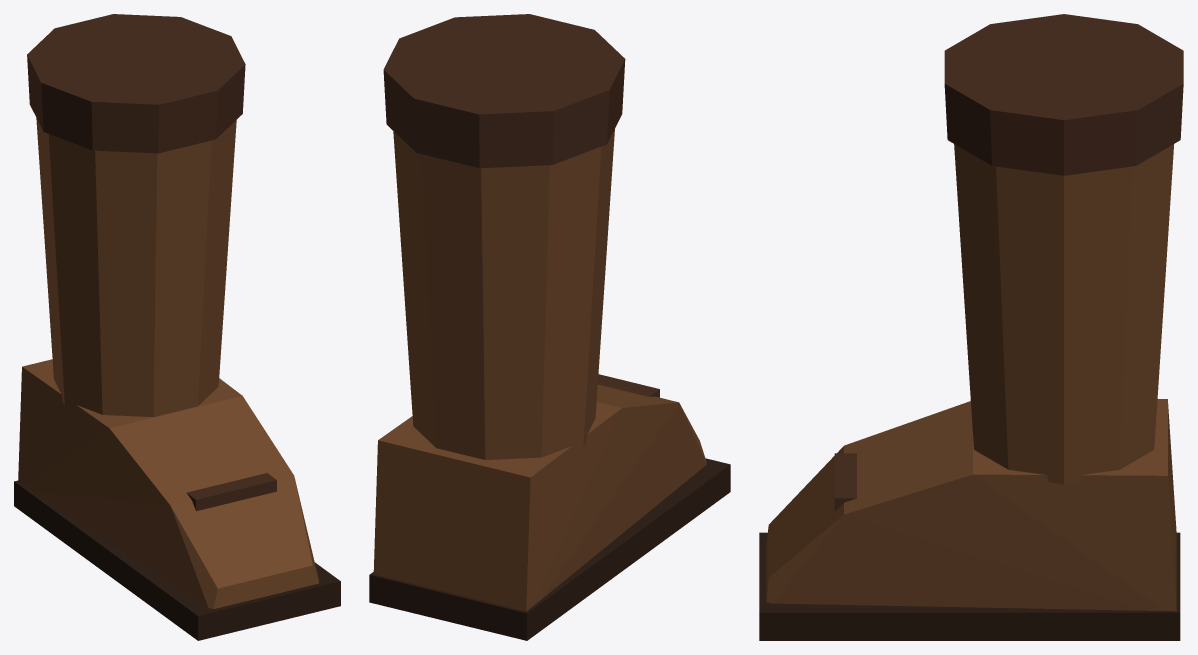
The model's file is gear_boots_hard_leg_r.glb.
3 views of the same model, side by side, from view 1: azimuth 30°, elevation 25°; view 2: azimuth 150°, elevation 25°; view 3: azimuth 270°, elevation 25° (orthographic). The views are drawn at different scales.
Visible parts, largest first — view 1: gear_boots_hard_leg_r; view 2: gear_boots_hard_leg_r; view 3: gear_boots_hard_leg_r.
Boxes of the visible parts, <box> form: gear_boots_hard_leg_r: <box>14,14,340,640</box>; gear_boots_hard_leg_r: <box>369,14,730,640</box>; gear_boots_hard_leg_r: <box>759,14,1183,640</box>.
Bounding box in the file's own units: 0.16 × 0.375 × 0.2701.
